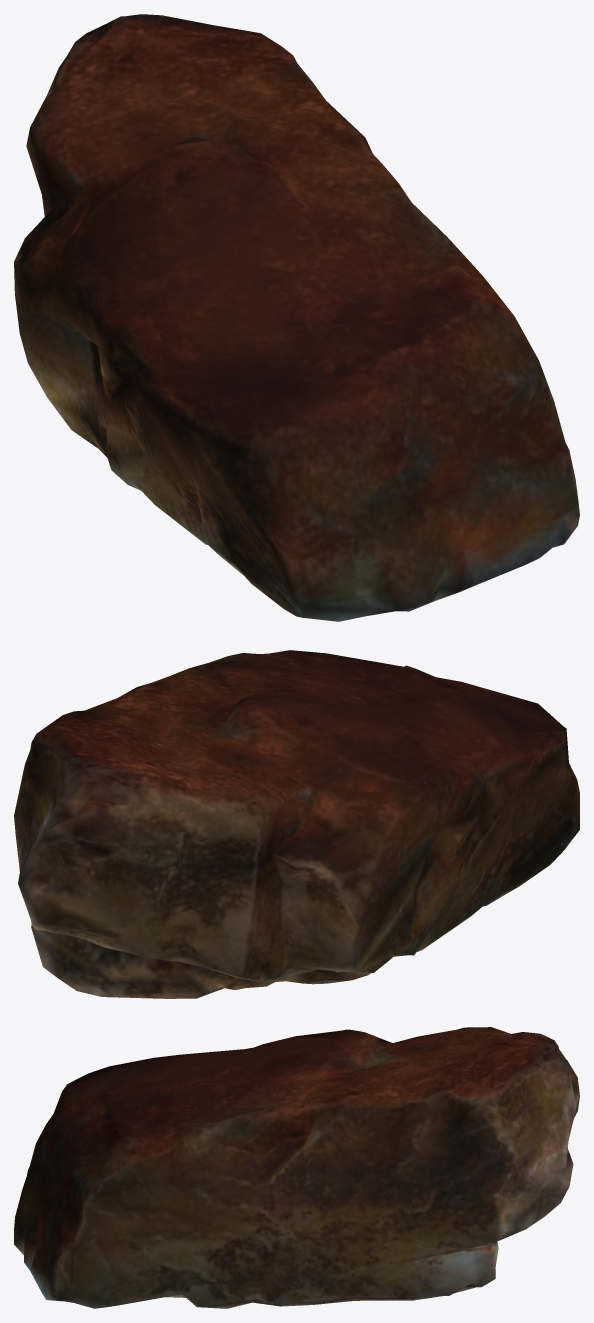
The model's file is rock_07.glb.
The picture shows the model from 3 angles, top to bottom: view 1: azimuth 30°, elevation 25°; view 2: azimuth 150°, elevation 25°; view 3: azimuth 270°, elevation 25°; orthographic projection. The views are drawn at different scales.
Parts seen in each view (by area): view 1: rock_07; view 2: rock_07; view 3: rock_07.
Boxes of the visible parts, box(x1,y1,x2,y2) form: rock_07: box(14, 14, 579, 621); rock_07: box(14, 650, 579, 998); rock_07: box(14, 1027, 579, 1308).
Bounding box in the file's own units: 0.167 × 0.1434 × 0.3194.
Materials: 1 (1 with a texture image).
